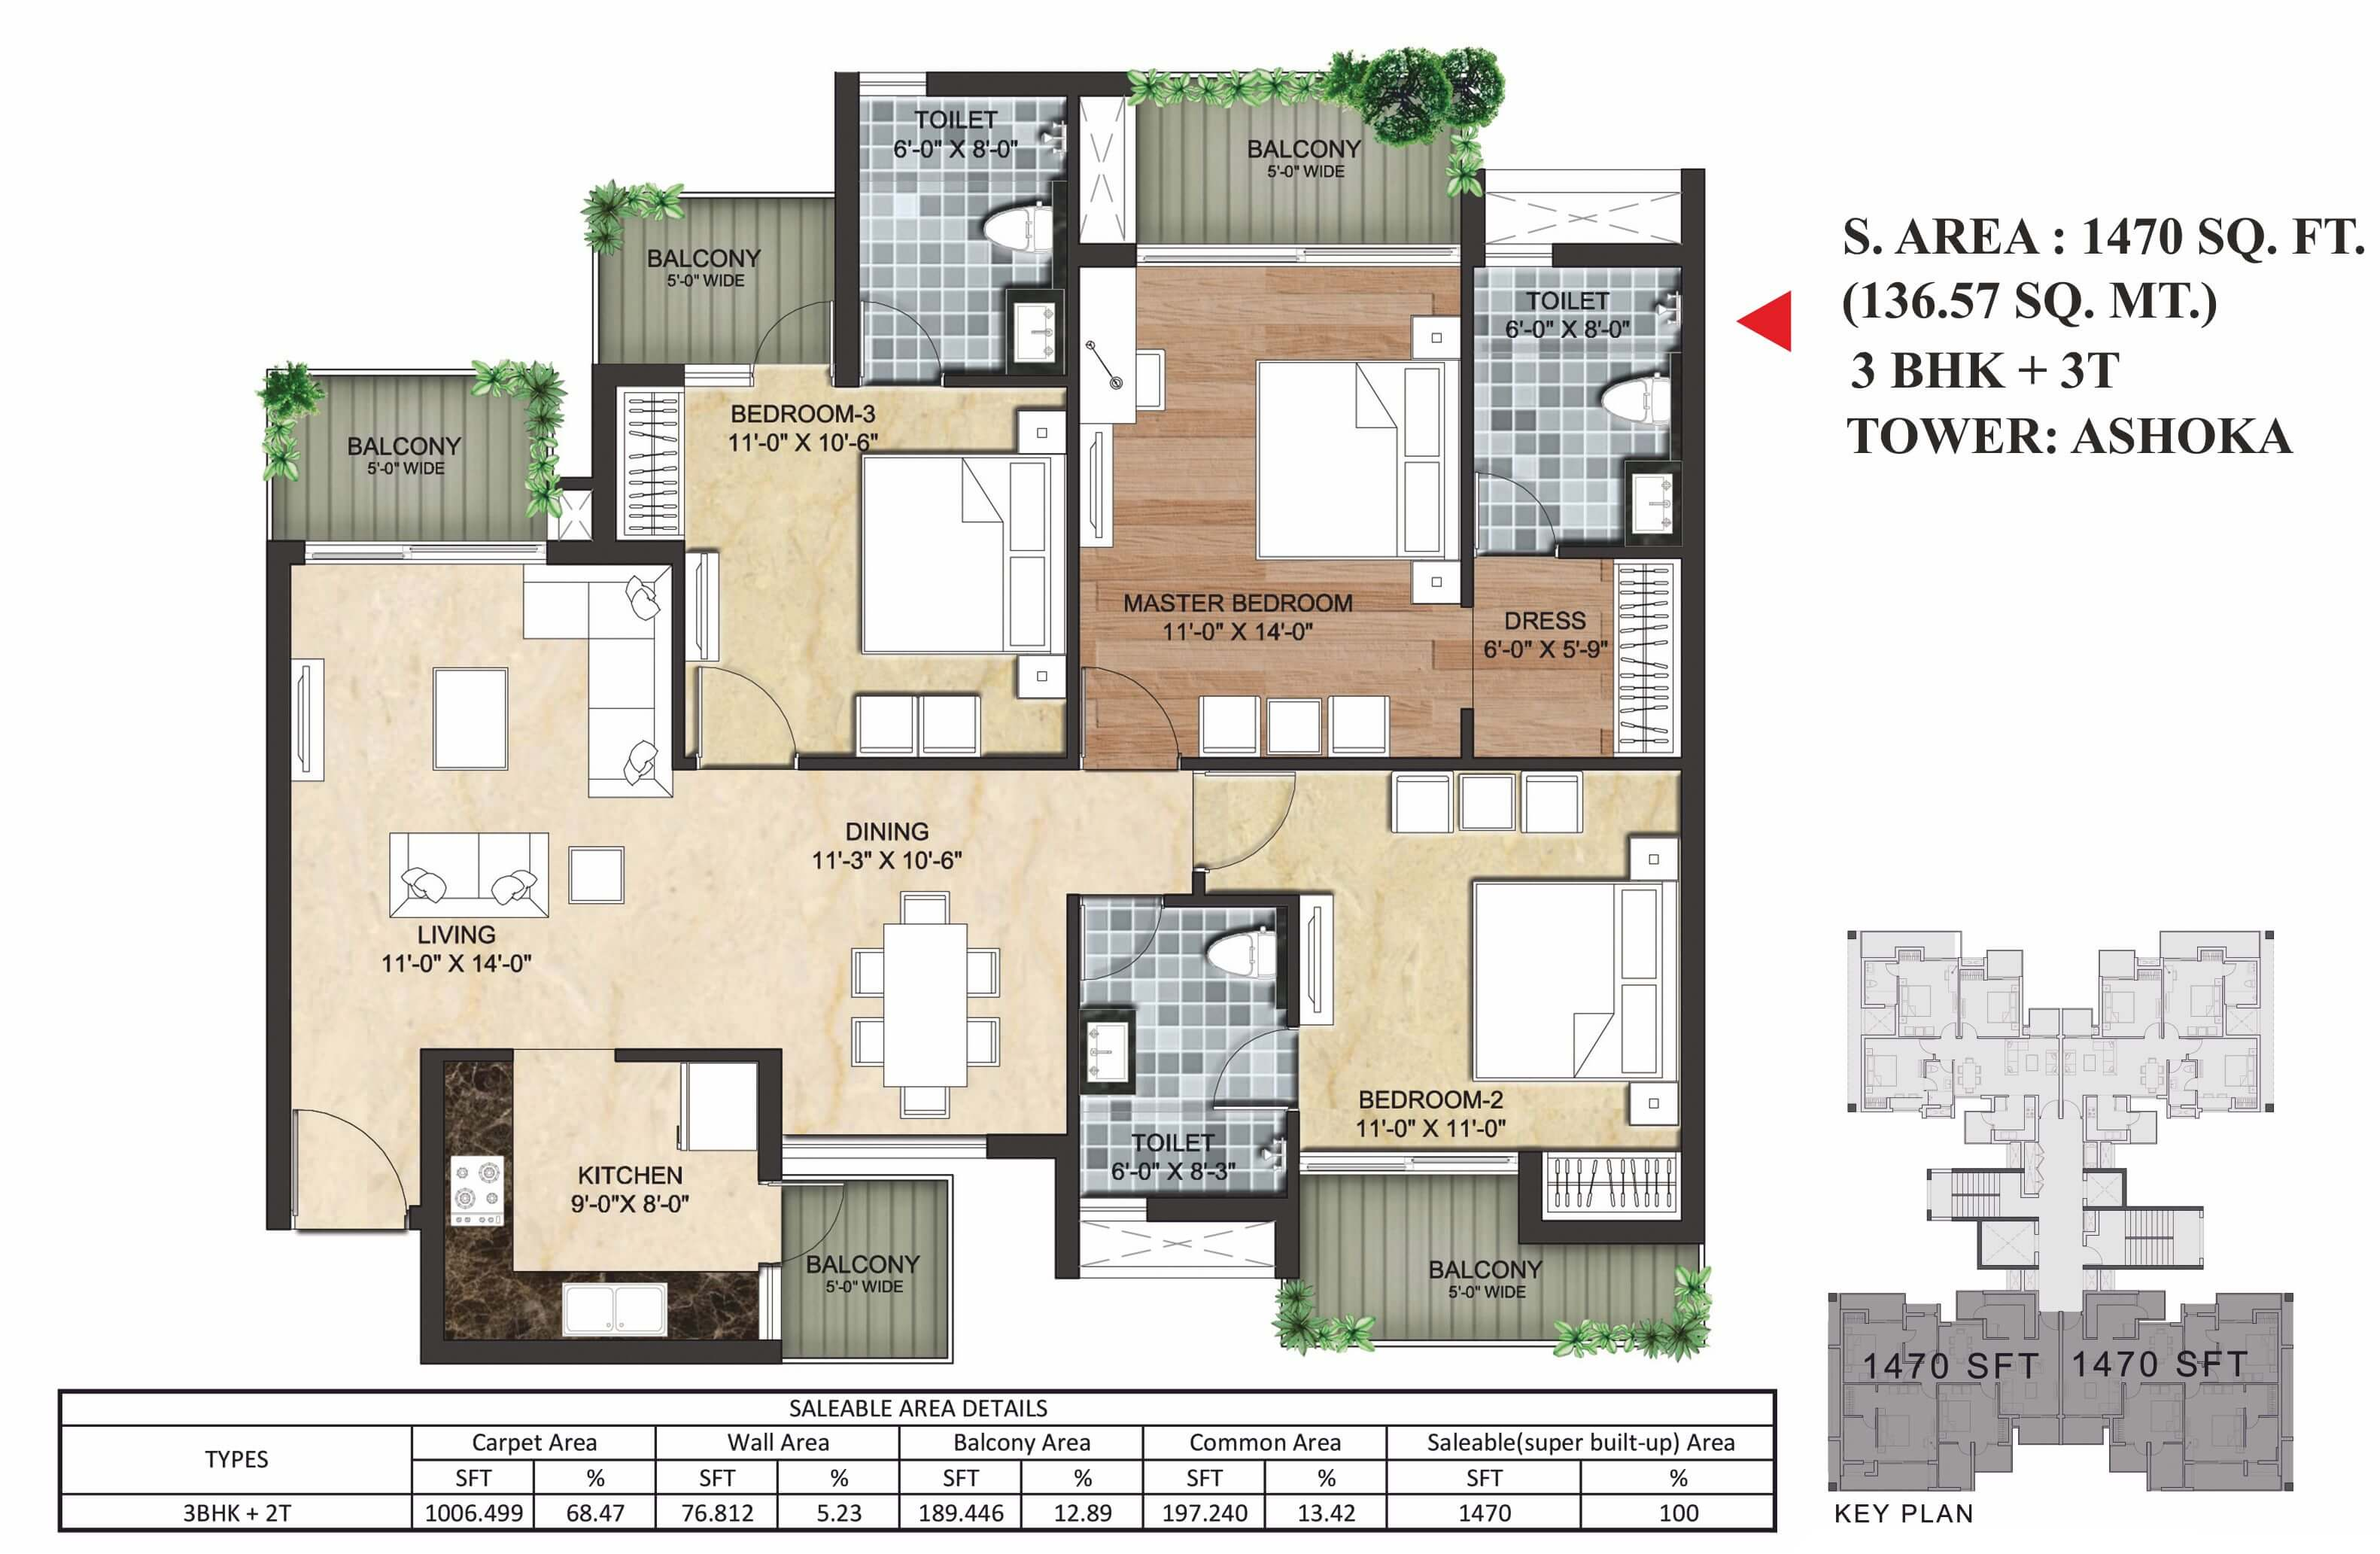door: (293, 1107, 406, 1211), (1077, 657, 1187, 756), (1211, 774, 1306, 867), (694, 664, 789, 753), (859, 291, 949, 369), (1207, 1025, 1284, 1117), (1473, 458, 1554, 543), (1081, 905, 1164, 982), (784, 1181, 852, 1250), (756, 297, 831, 359)
